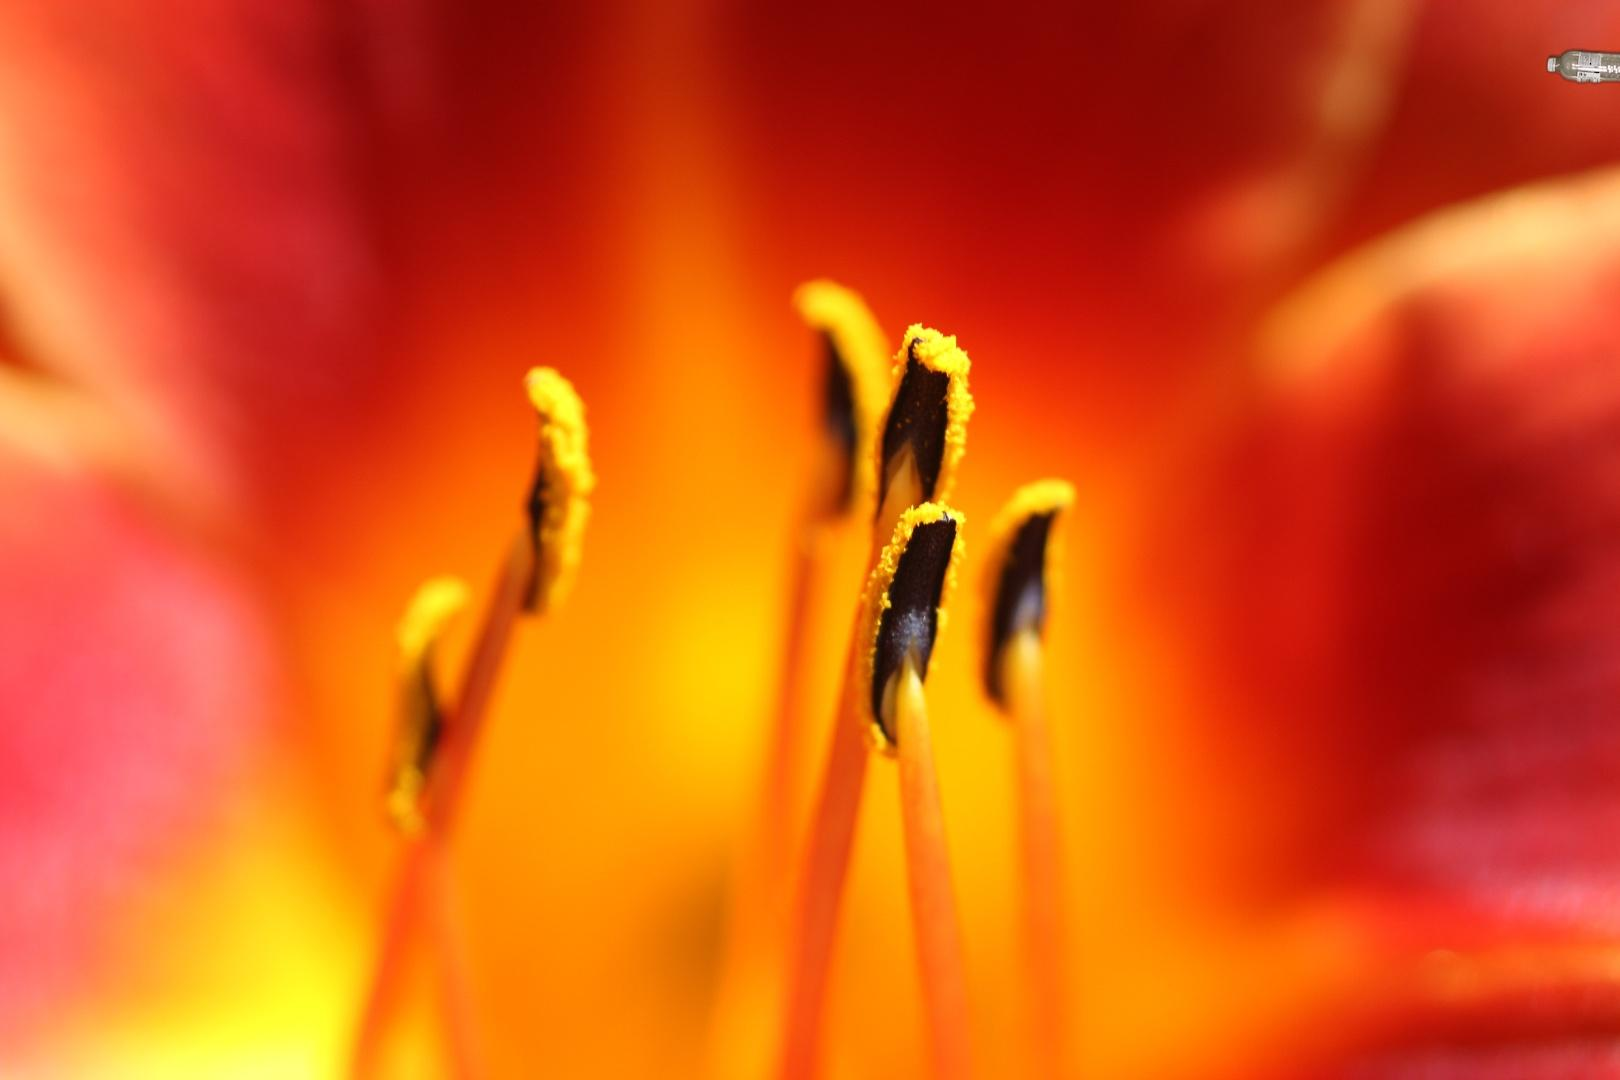plastic-bottles: (1542, 45, 1620, 89)
